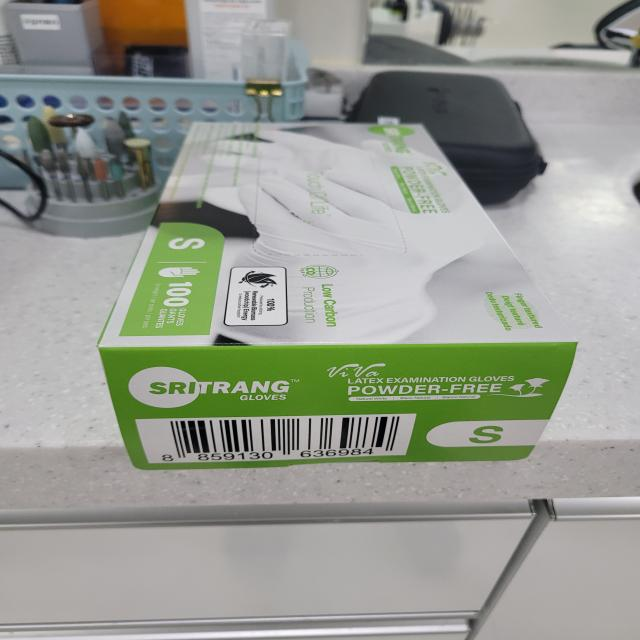glove: (73, 94, 607, 488)
